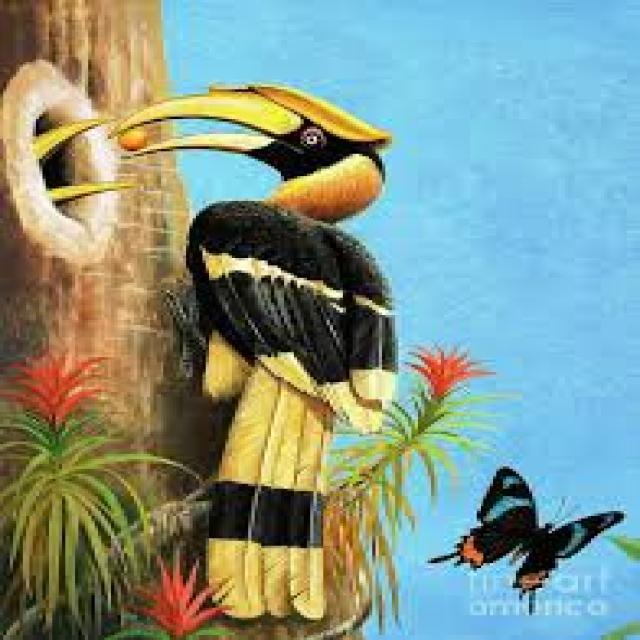Hornbill: (120, 81, 405, 606)
